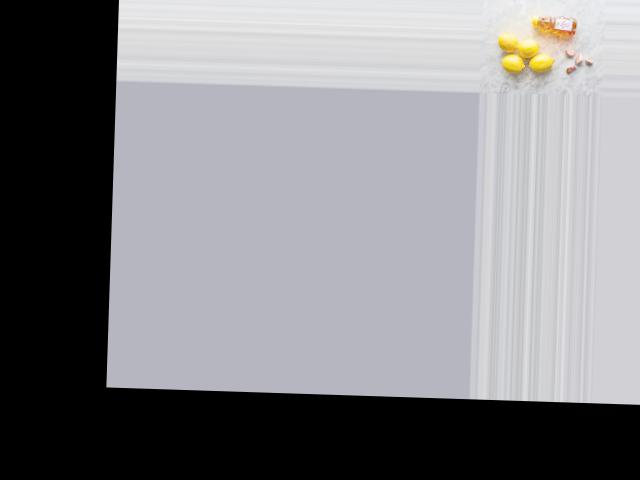lemon: (526, 49, 556, 76)
